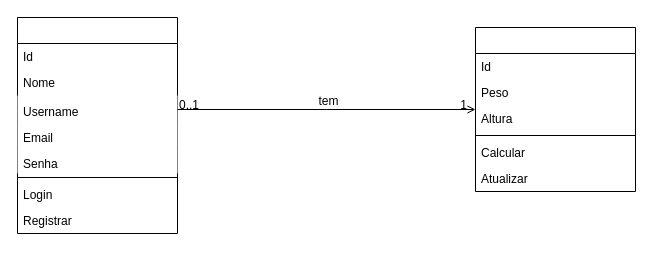
The diagram is 653 pixels wide and 254 high, and some of its shapes have lost their labels. The shapes that lost their labels are listed below. From the top down, each one's box as (x1, y1, x2, y2) in pixels, then its label:
(16, 16, 178, 234): Usuario
(474, 26, 636, 192): IMC
